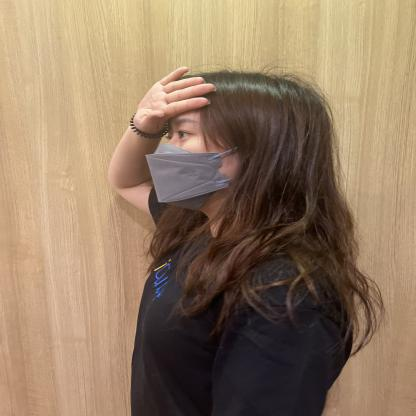Sick: (84, 54, 255, 149)
